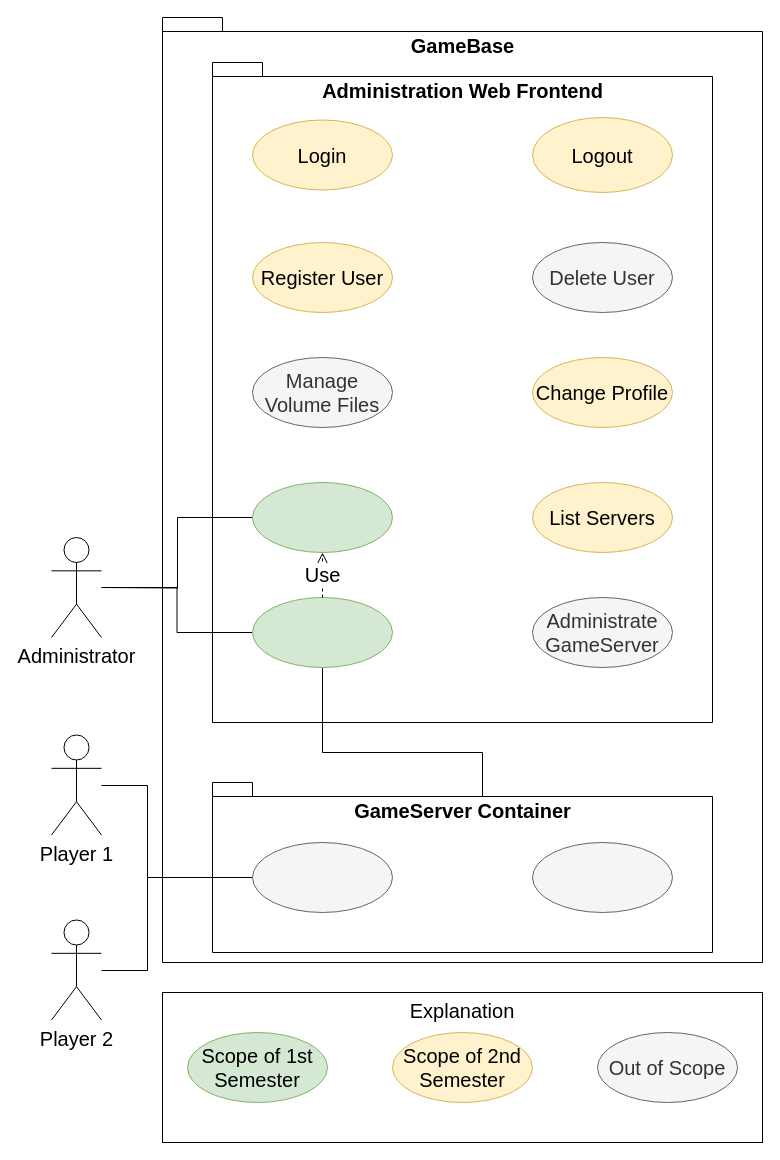
Image size: 780x1160. Some labels were removed from this diagram. Each missing label, with the centre of its shape:
"Configure Server" goes at (x=322, y=517).
"Connect VPN" goes at (x=602, y=877).
"Create GameServer" goes at (x=322, y=632).
"Join Server" goes at (x=322, y=877).
